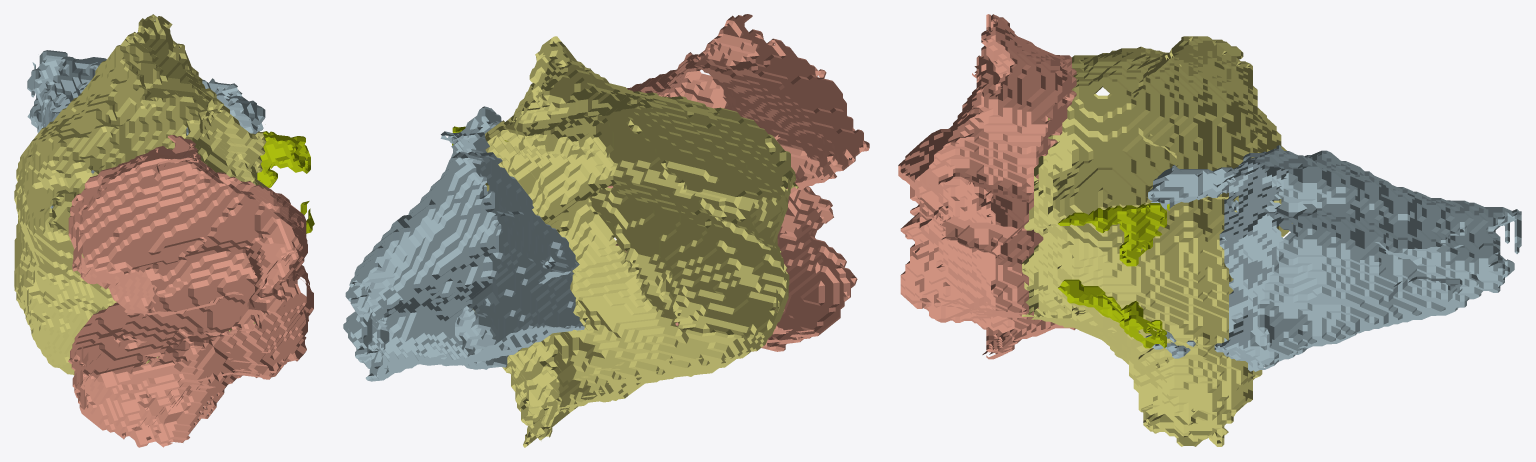
Rendered from brainstemSsLabels.glb.
3 renders of one model, left to right at view 1: azimuth 30°, elevation 25°; view 2: azimuth 150°, elevation 25°; view 3: azimuth 270°, elevation 25°, orthographic. The views are drawn at different scales.
Parts seen in each view (by area): view 1: 173_Midbrain, 174_Pons, 175_Medulla, 178_SCP; view 2: 174_Pons, 175_Medulla, 173_Midbrain; view 3: 174_Pons, 175_Medulla, 173_Midbrain, 178_SCP.
Boxes of the visible parts, bbox=[...] form: 173_Midbrain: bbox=[68, 135, 313, 447]; 174_Pons: bbox=[14, 14, 266, 375]; 175_Medulla: bbox=[27, 50, 265, 208]; 178_SCP: bbox=[257, 131, 314, 233]; 174_Pons: bbox=[473, 36, 798, 447]; 175_Medulla: bbox=[343, 106, 585, 381]; 173_Midbrain: bbox=[607, 14, 869, 351]; 174_Pons: bbox=[1022, 36, 1292, 446]; 175_Medulla: bbox=[1145, 145, 1521, 371]; 173_Midbrain: bbox=[898, 14, 1079, 359]; 178_SCP: bbox=[1058, 203, 1169, 348].
Bounding box in the file's own units: 41 × 47 × 65.5.
